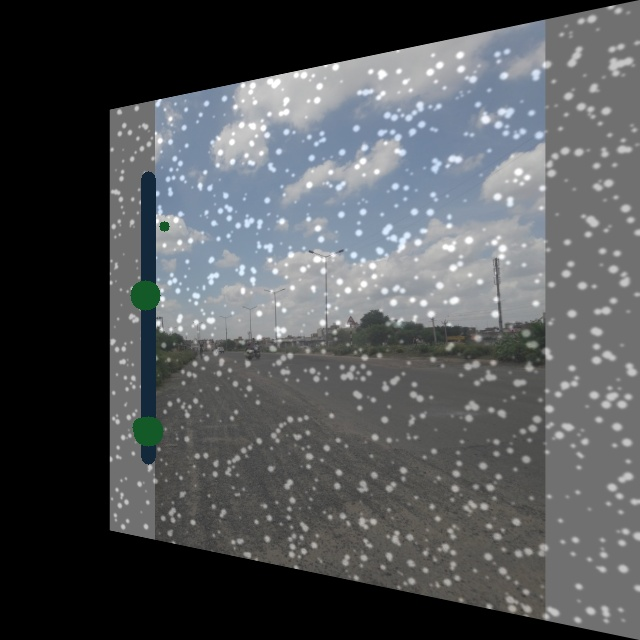Left_Hand_Curve: (344, 313, 359, 327)
